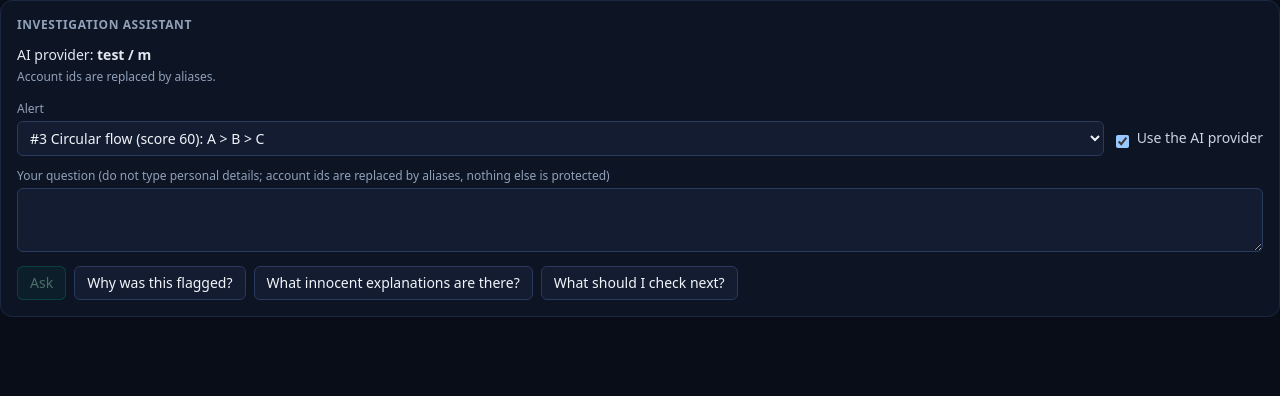
Test: Assistant view › sends use_ai=false when the analyst switches AI off, and shows server errors
Click the checkbox labelled "Use the AI provider" at {"x": 1122, "y": 142}, box [1116,135,1129,148]
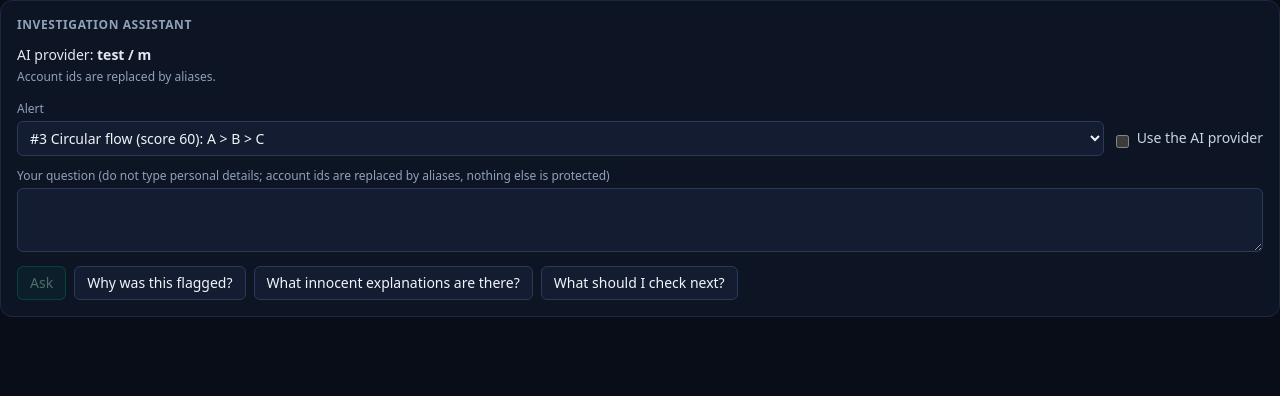
Click the button "Why was this flagged?" at {"x": 160, "y": 283}, box [74,266,246,300]
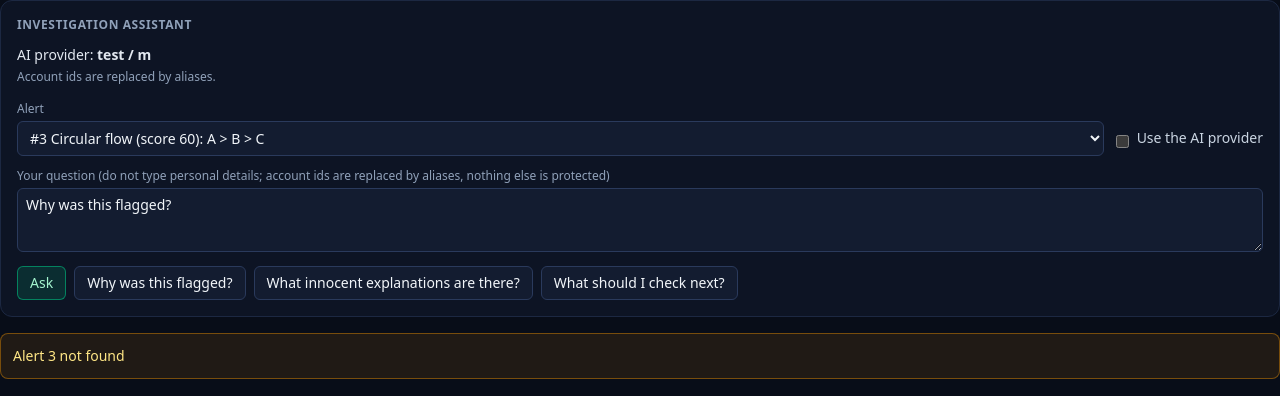
expect the text "Alert 3 not found" is shown: met, box [13,346,125,365]
